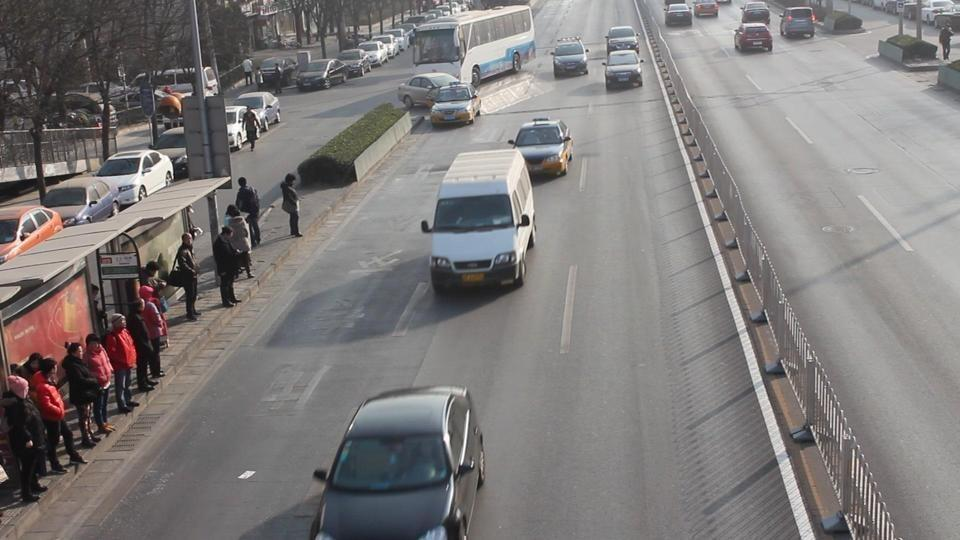car: (307, 384, 488, 539), (422, 146, 538, 293), (154, 109, 241, 169), (92, 148, 174, 206), (509, 117, 575, 179), (41, 176, 118, 228), (0, 205, 64, 264), (152, 129, 219, 179), (428, 82, 481, 128), (396, 72, 460, 109), (229, 90, 282, 130), (296, 58, 351, 92), (604, 50, 643, 90), (552, 40, 590, 77), (733, 22, 774, 53), (332, 50, 374, 78), (781, 7, 816, 40), (921, 1, 957, 25), (605, 26, 638, 52), (664, 2, 693, 28), (739, 2, 770, 26), (691, 0, 720, 18)
